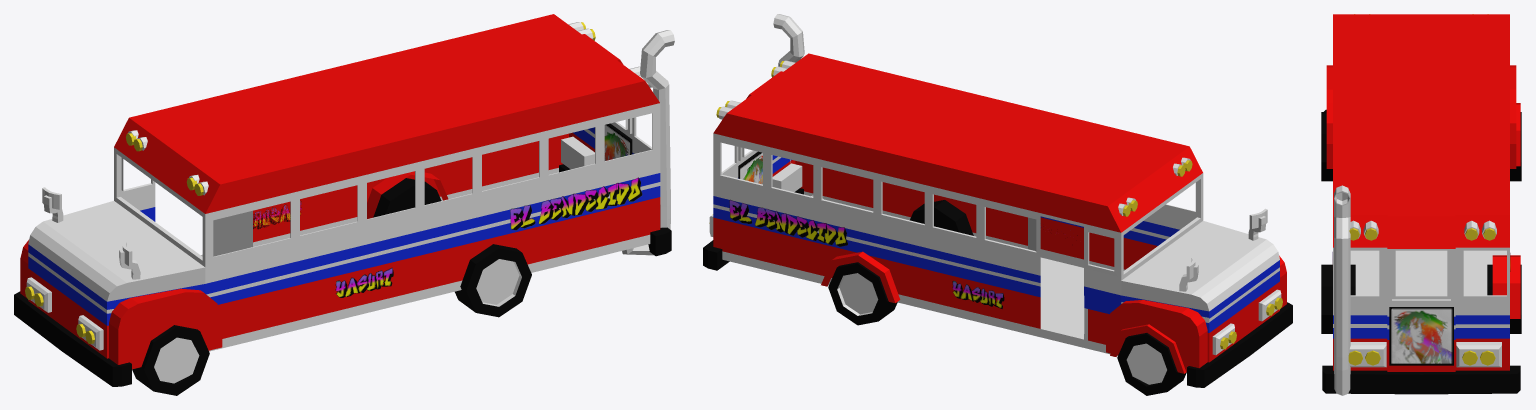
Rendered from bus40.fbx.
3 views of the same model, side by side, from view 1: azimuth 30°, elevation 25°; view 2: azimuth 150°, elevation 25°; view 3: azimuth 270°, elevation 25° (orthographic). The views are drawn at different scales.
Parts seen in each view (by area): view 1: Cube.001, Cube.004, Cube.002, Cube.005; view 2: Cube.001, Cube.003, Cube.005, Cube.004; view 3: Cube.001, Cube.004, Cube.002, Cube.005, Cube.003.
Part boxes in pixels (x1,y1,x2,y2): Cube.001: [14, 14, 674, 386]; Cube.004: [455, 244, 531, 317]; Cube.002: [132, 325, 209, 395]; Cube.005: [373, 178, 441, 217]; Cube.001: [703, 14, 1292, 387]; Cube.003: [1117, 333, 1186, 395]; Cube.005: [828, 262, 897, 325]; Cube.004: [910, 200, 973, 235]; Cube.001: [1322, 14, 1520, 395]; Cube.004: [1321, 264, 1355, 333]; Cube.002: [1321, 112, 1332, 181]; Cube.005: [1487, 264, 1521, 333]; Cube.003: [1510, 112, 1521, 181].
Size of the model in its own units: 14.09 by 5.54 by 4.41.
Materials: 10 (3 with a texture image).
